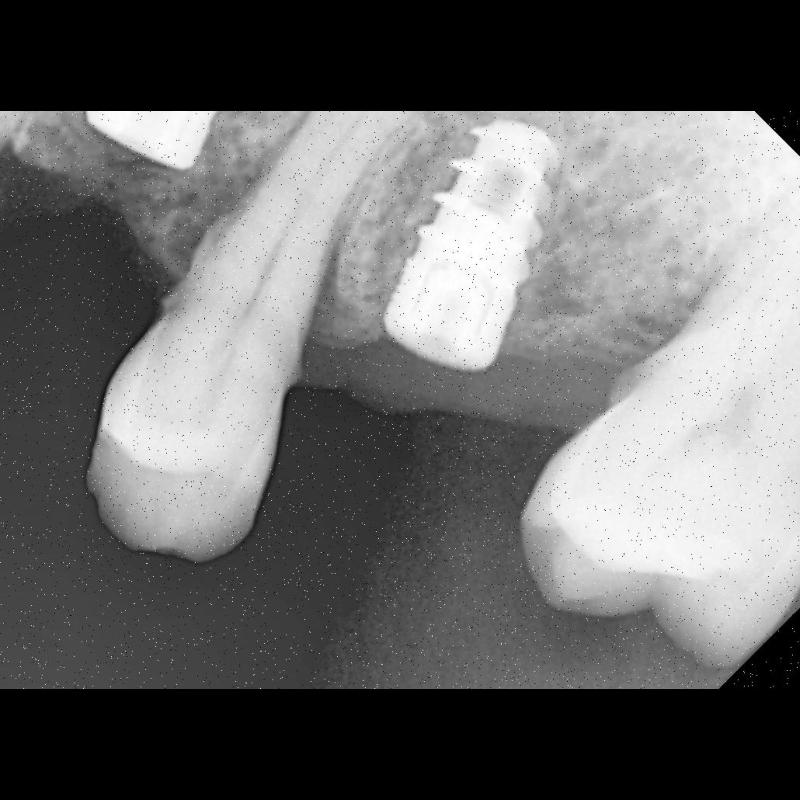NORIS: (380, 112, 560, 376)
